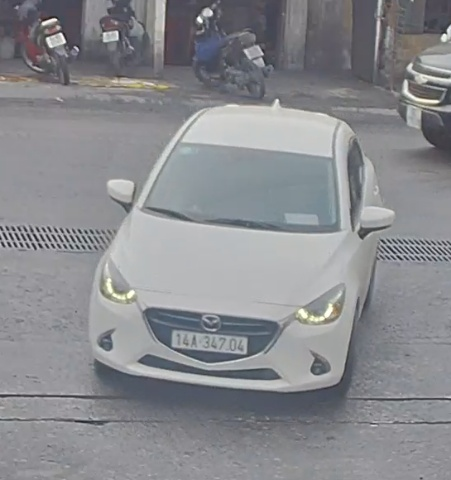vehicle plate: (168, 327, 257, 361)
